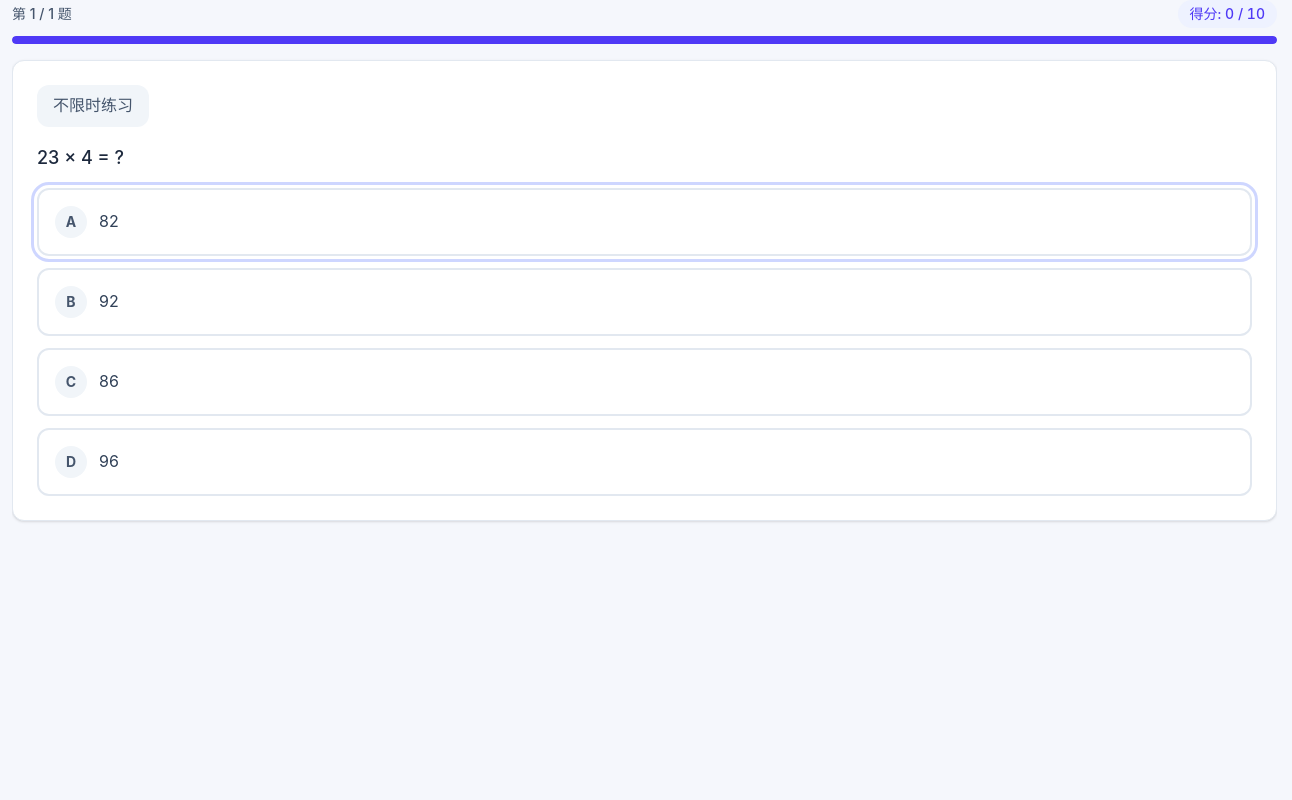
Scenario: TimedChallengeGame keyboard answers › labels the timed single-choice result as a choice question
Press 2
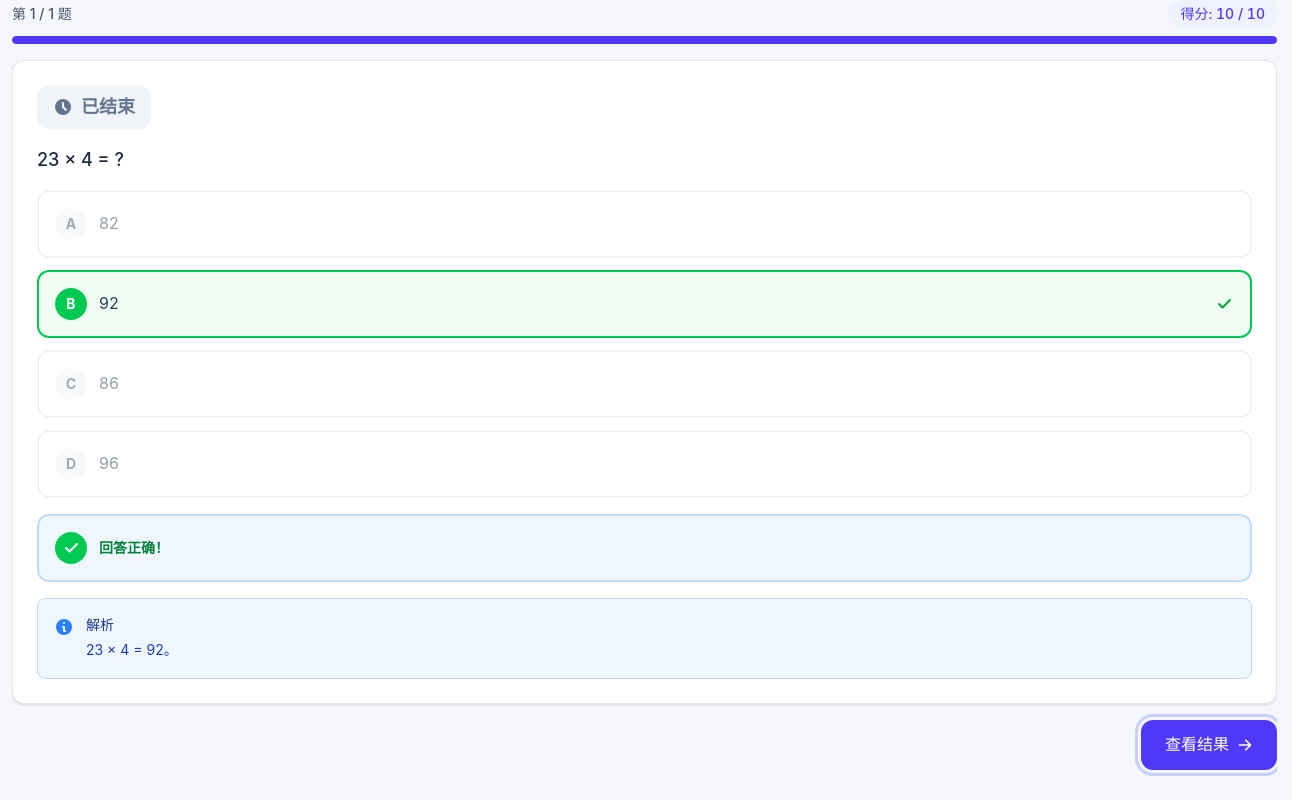
Click the button "查看结果": (1209, 745) [1141,720,1277,770]
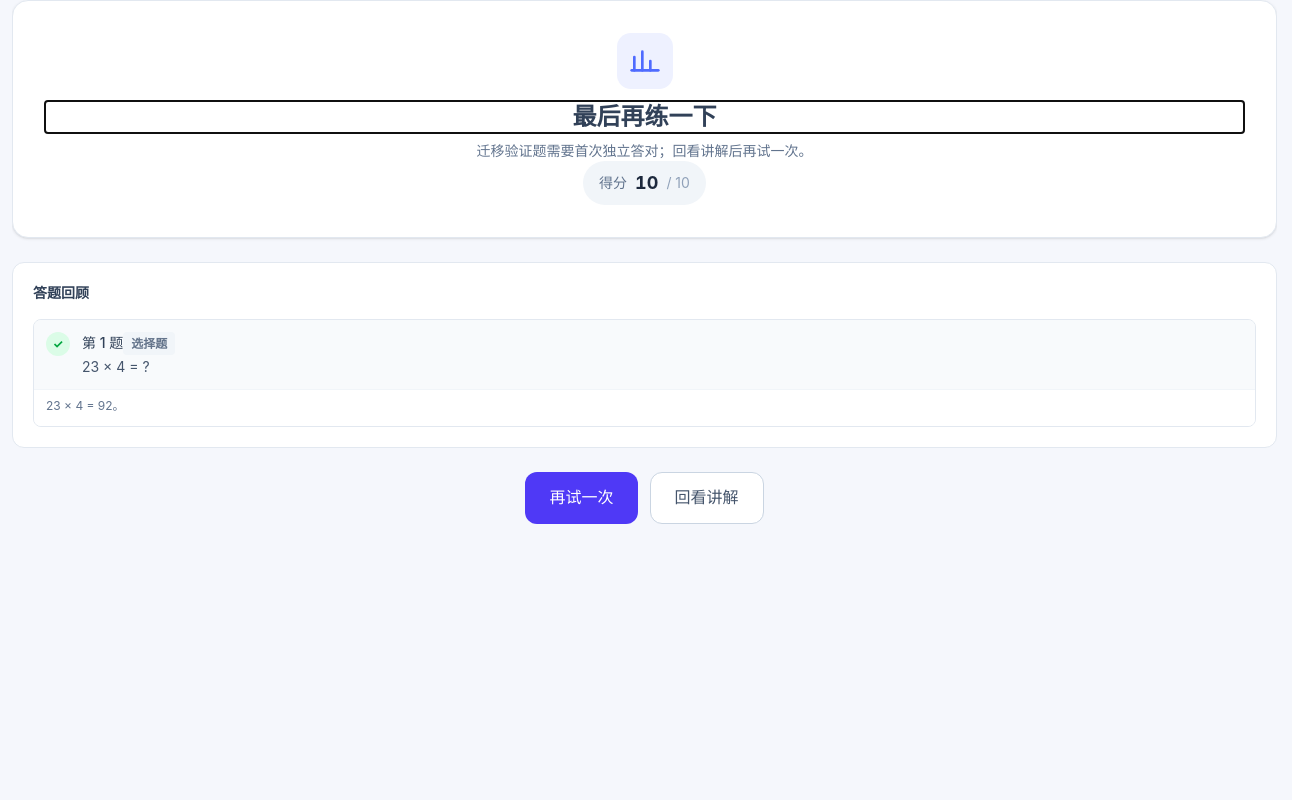
Check: the text "选择题" is shown, box [123,332,175,355]
